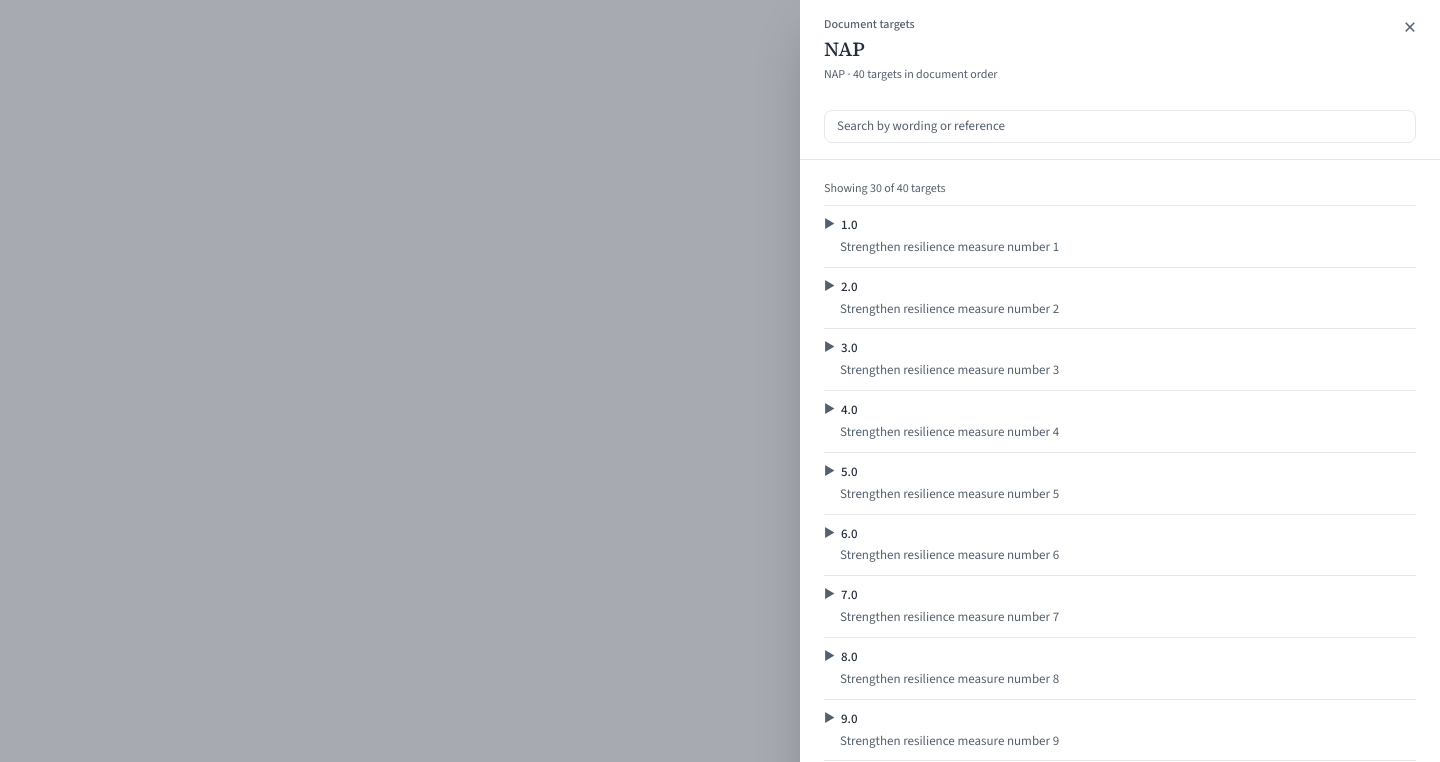
DocTargetsDrawer search › clears the field on Escape before the panel would close
Type "number 7" into the search field named "Search these targets" at (1120, 126), box [824,110,1416,143]
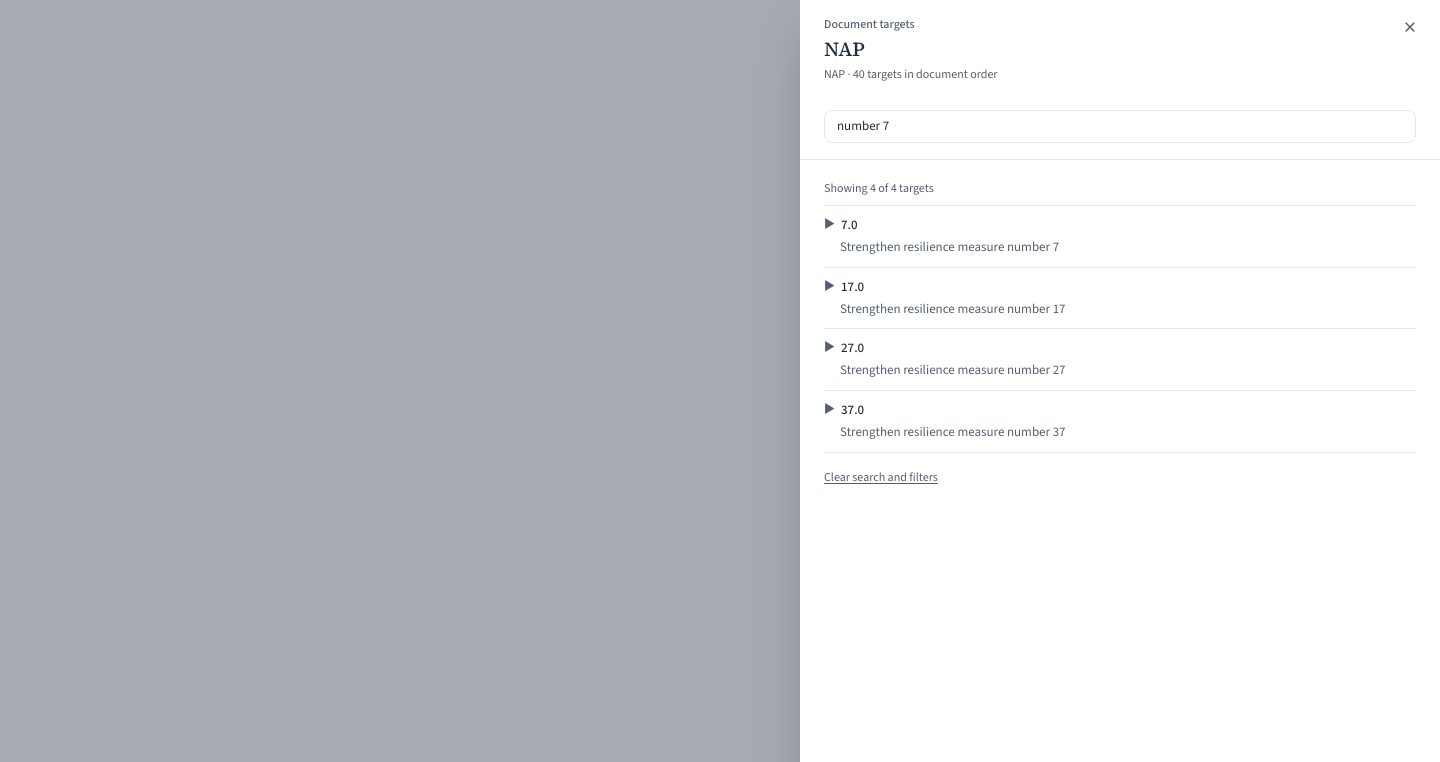
Press Escape in the search field named "Search these targets", box [824,110,1416,143]
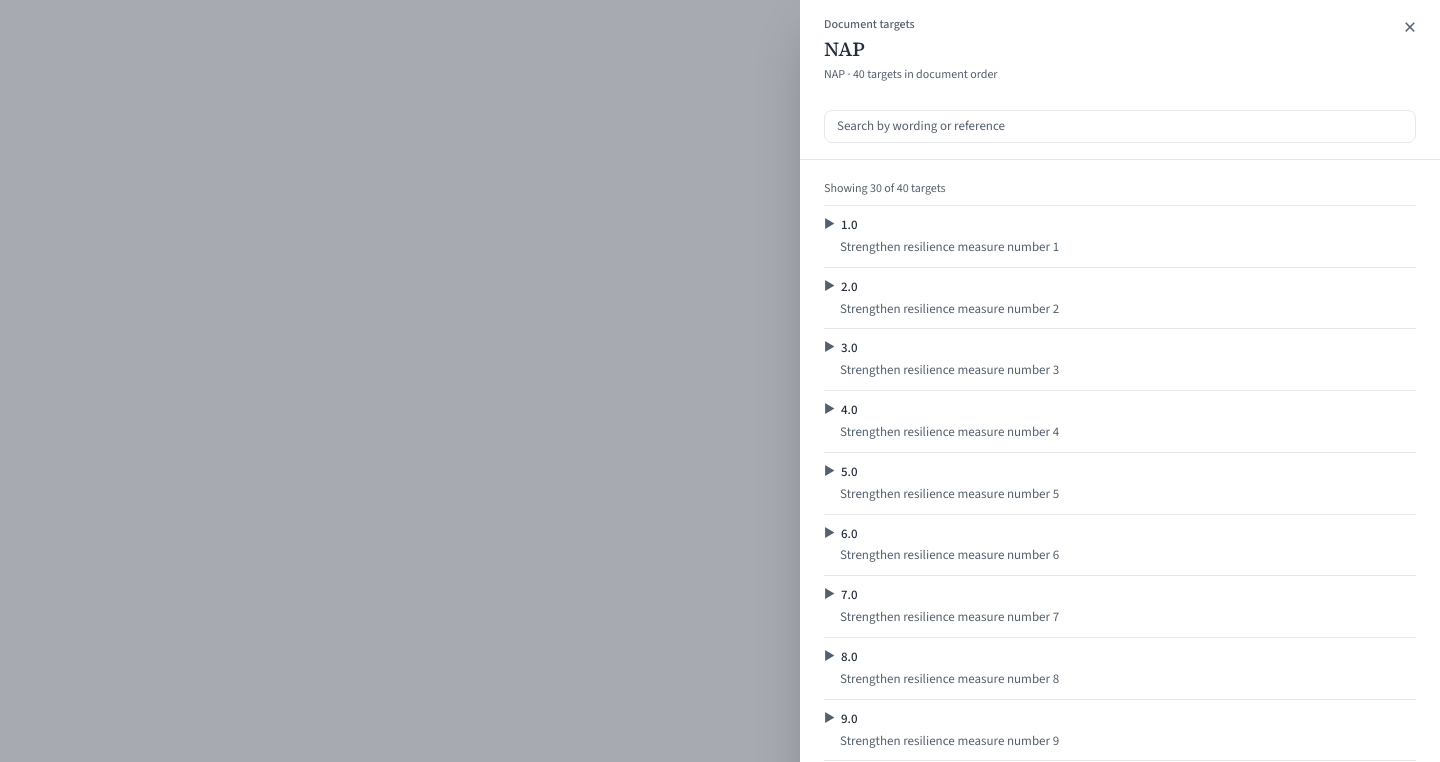
Check: the search field named "Search these targets" is empty, box [824,110,1416,143]
Check: the text "1.0" is shown 30 times
